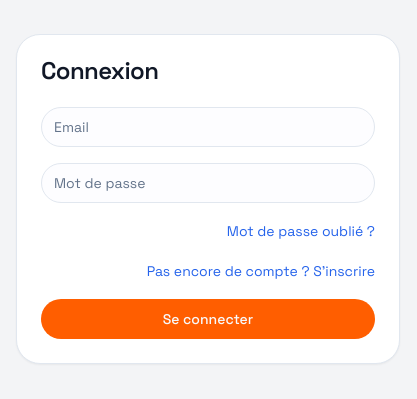
Scenario: LoginPage › handles login failure
The image size is (417, 399).
Type "wrong@test.com" into the field with placeholder "Email" at (208, 127), box [41,107,375,147]
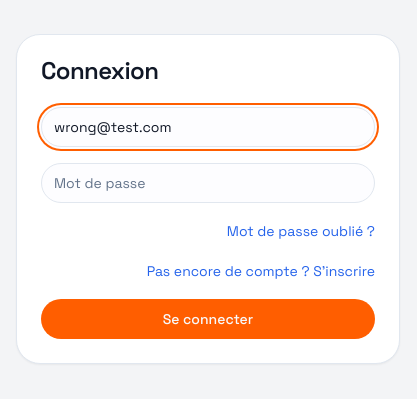
Type "wrong" into the password field with placeholder "Mot de passe" at (208, 183), box [41,163,375,203]
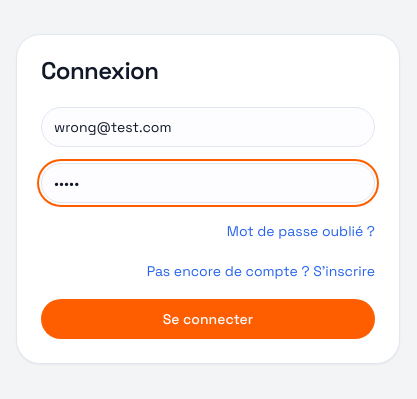
Click the button "Se connecter" at (208, 319), box [41,299,375,339]
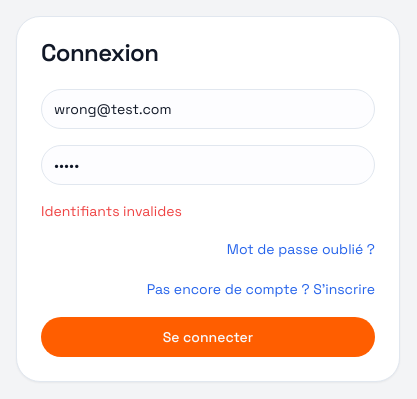
expect the text "Identifiants invalides" is shown: met, box [41,202,182,220]
